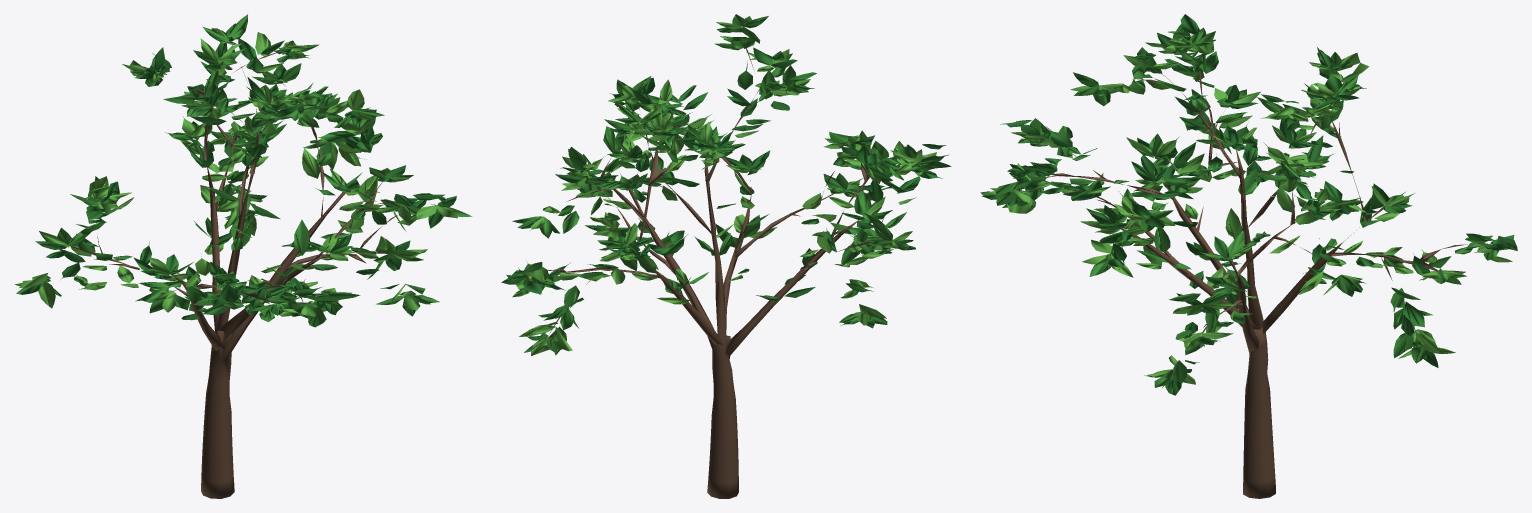
Rendered from 28_2_mid.glb.
3 renders of one model, left to right at view 1: azimuth 30°, elevation 25°; view 2: azimuth 150°, elevation 25°; view 3: azimuth 270°, elevation 25°, orthographic. The views are drawn at different scales.
Parts seen in each view (by area): view 1: body; view 2: body; view 3: body.
Boxes of the visible parts, bbox=[...] form: body: bbox=[14, 14, 472, 498]; body: bbox=[501, 14, 951, 498]; body: bbox=[980, 14, 1517, 498].
Bounding box in the file's own units: 1.9 × 2.08 × 2.27.
Materials: 1 (1 with a texture image).
